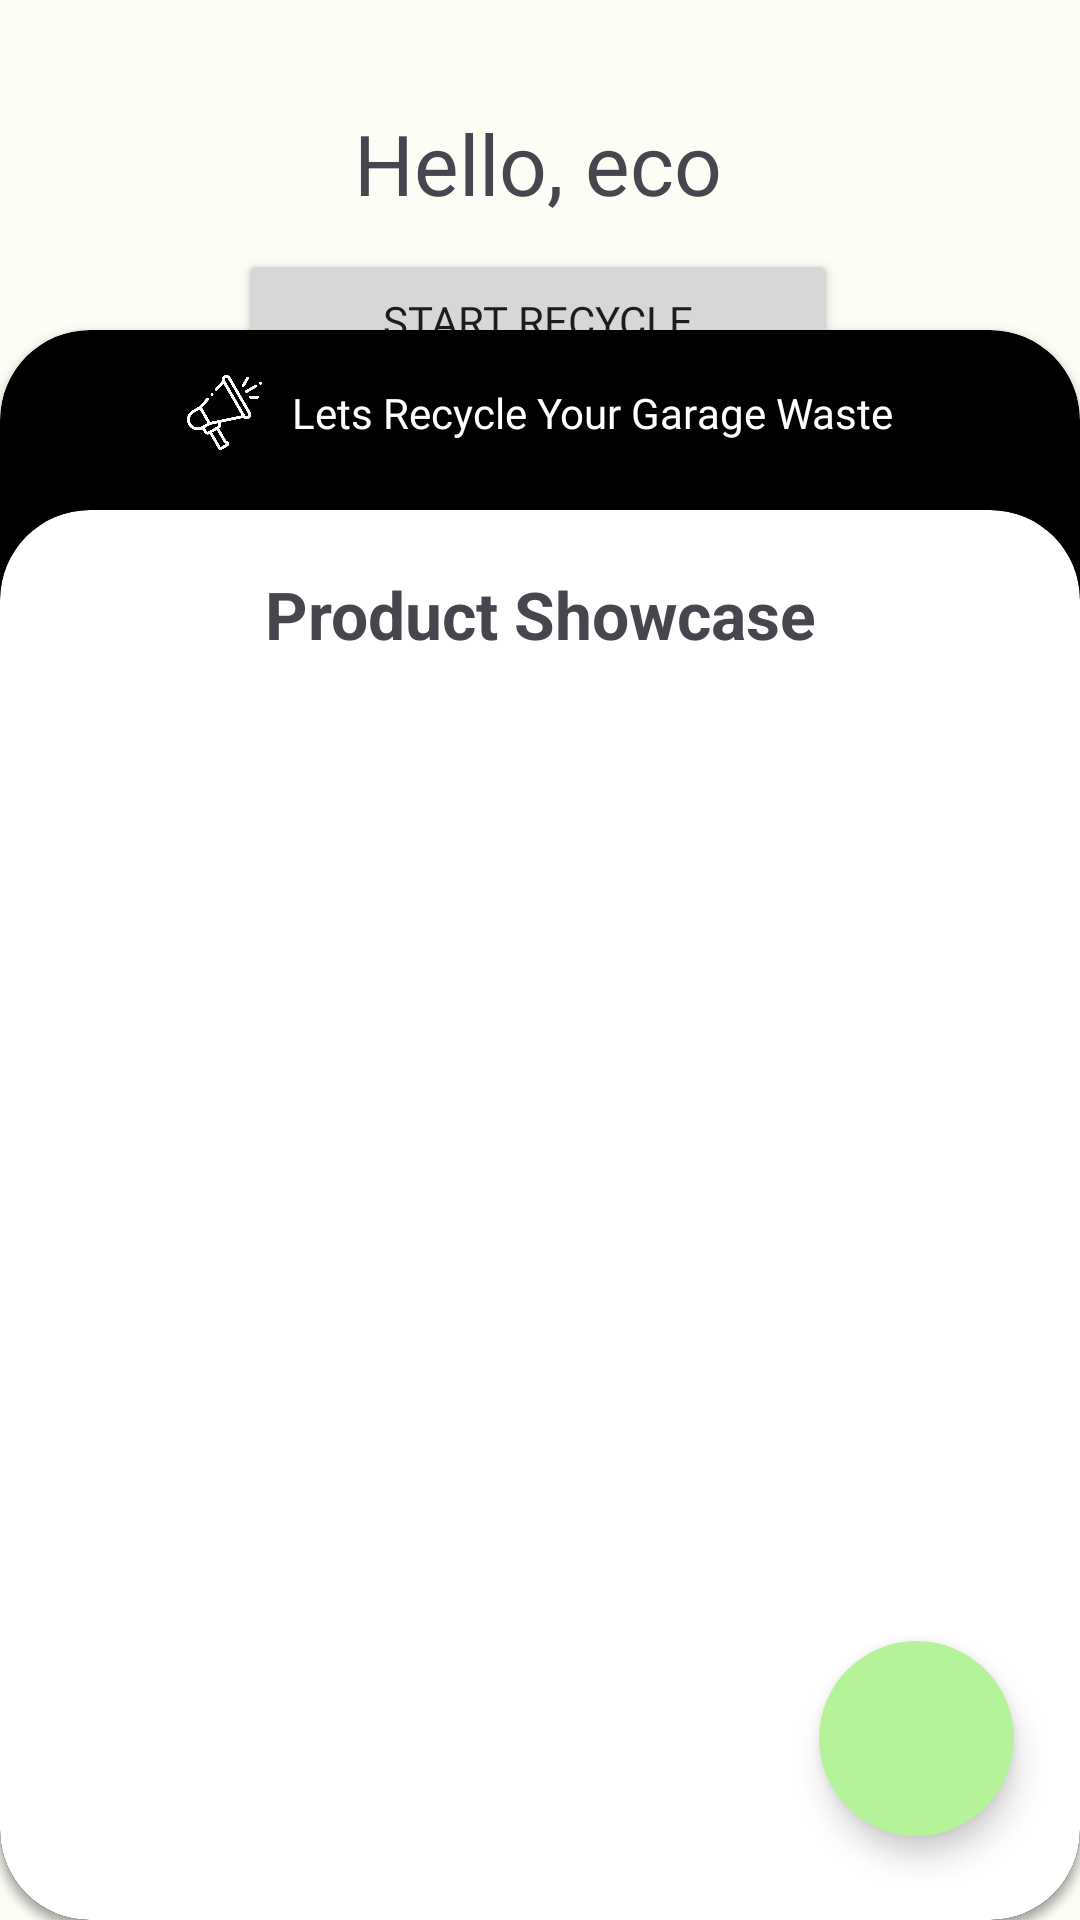

Icon bounding boxes for this 1080 x 1920 phone screenshot, format (x1, y1, x2, y2):
Announcement Image: (187, 375, 262, 450)
